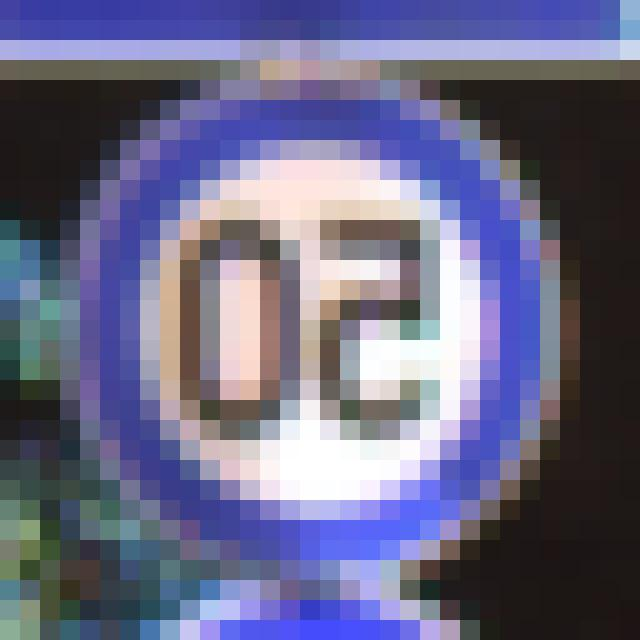SPEED LIMIT 50: (108, 132, 526, 530)
